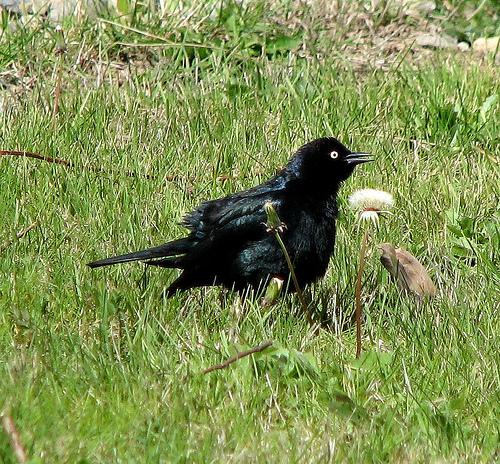009.Brewer_Blackbird: (87, 137, 375, 298)
